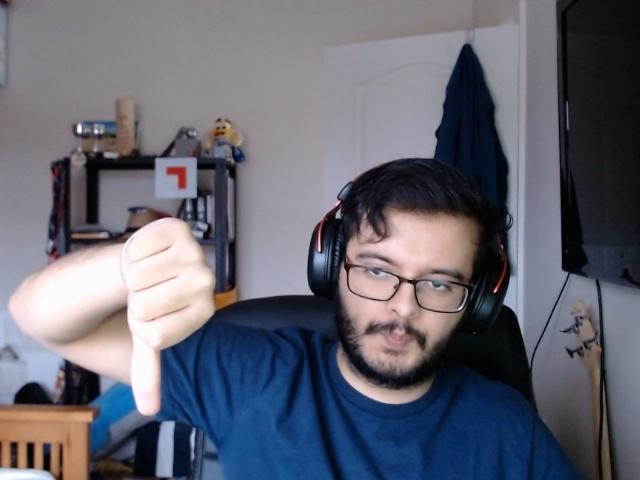Thumbs down: (118, 208, 228, 425)
